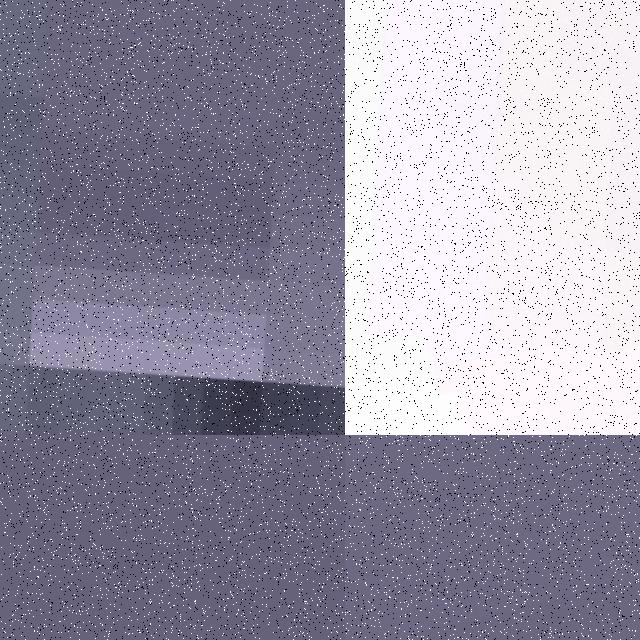0: (0, 0, 345, 435)
drone: (345, 0, 640, 433)
